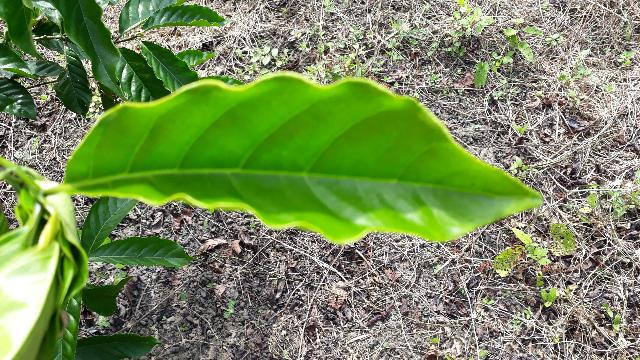healthy: (65, 76, 546, 243)
